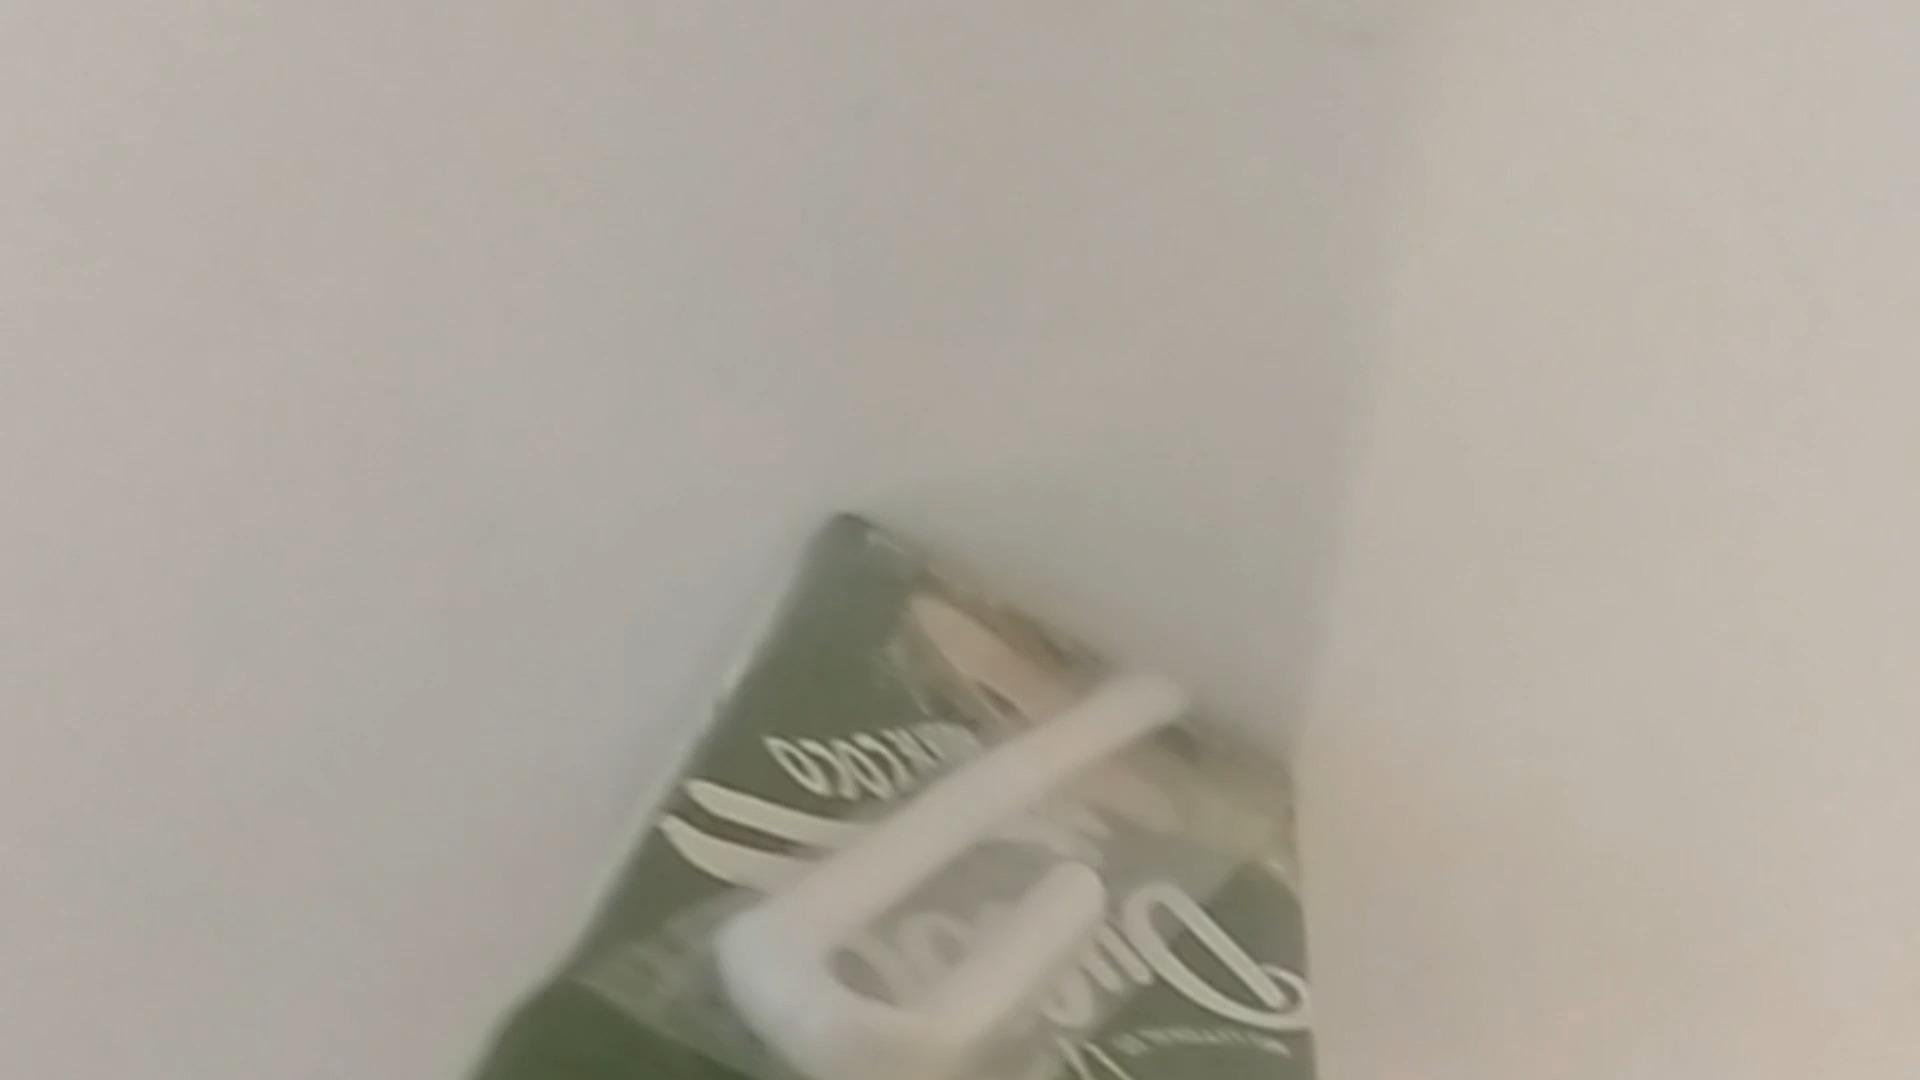coco: (475, 513, 1320, 1080)
